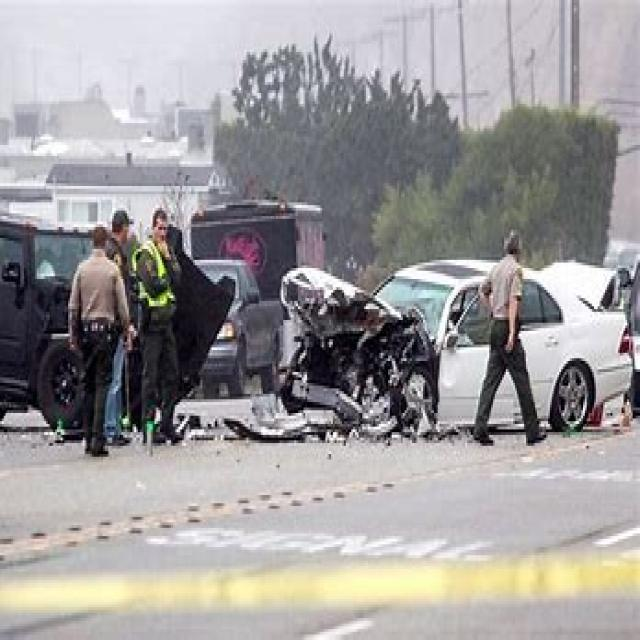Accident: (237, 203, 485, 533)
